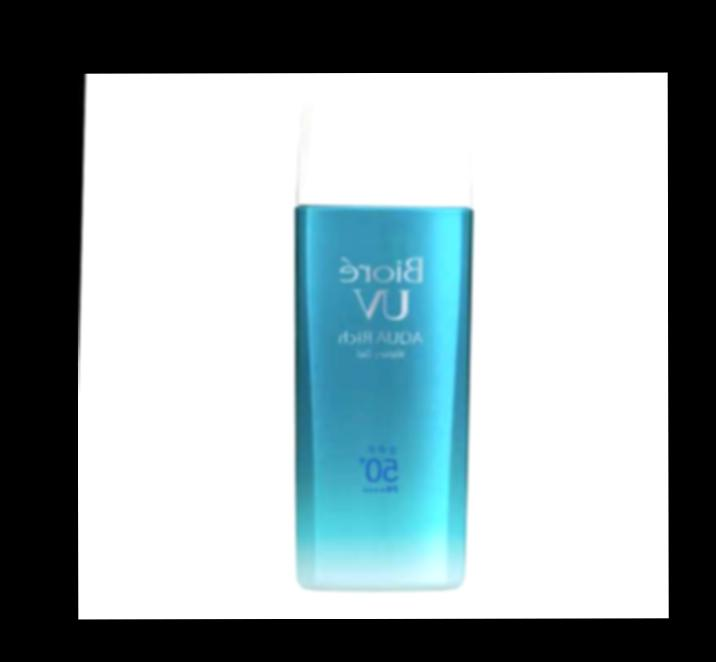cosmetic: (285, 90, 483, 592)
